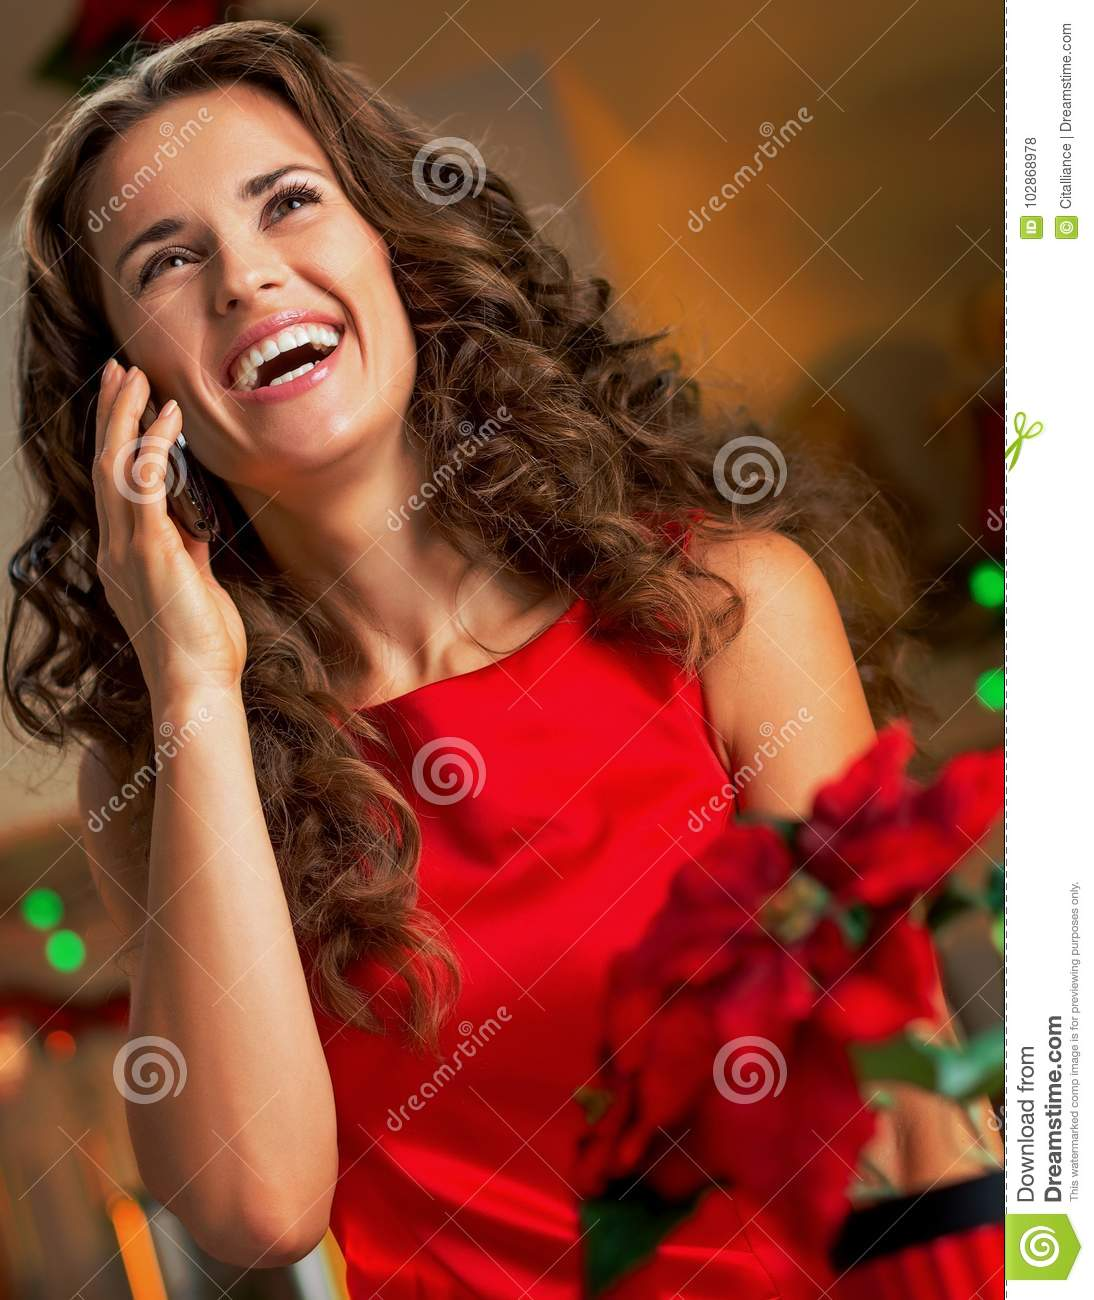phone: (101, 344, 232, 551)
talk: (91, 155, 433, 725)
